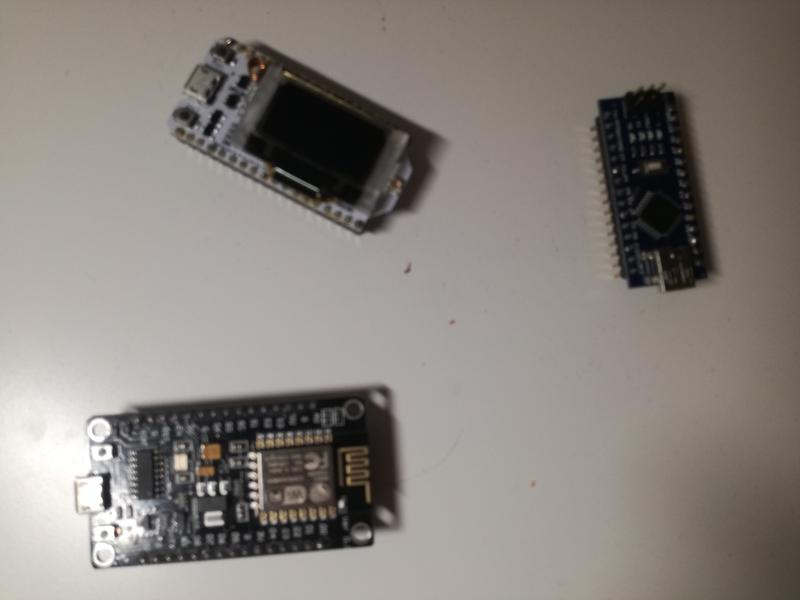Arduino_Nano: (578, 80, 727, 297)
ESP8266: (70, 389, 387, 571)
Heltec_ESP32_Lora: (163, 31, 426, 237)
